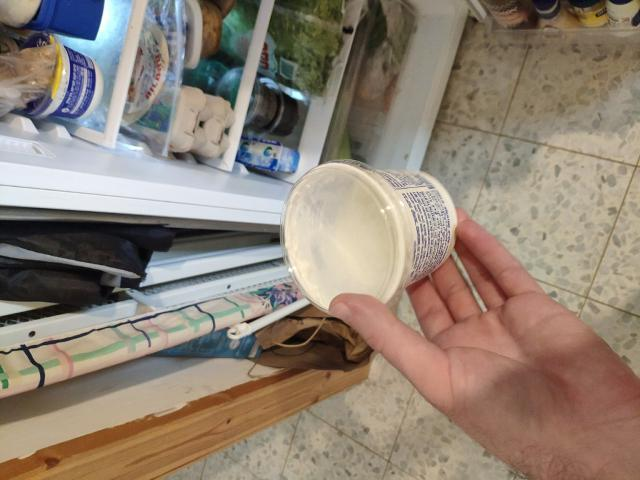cotage: (291, 171, 458, 309)
